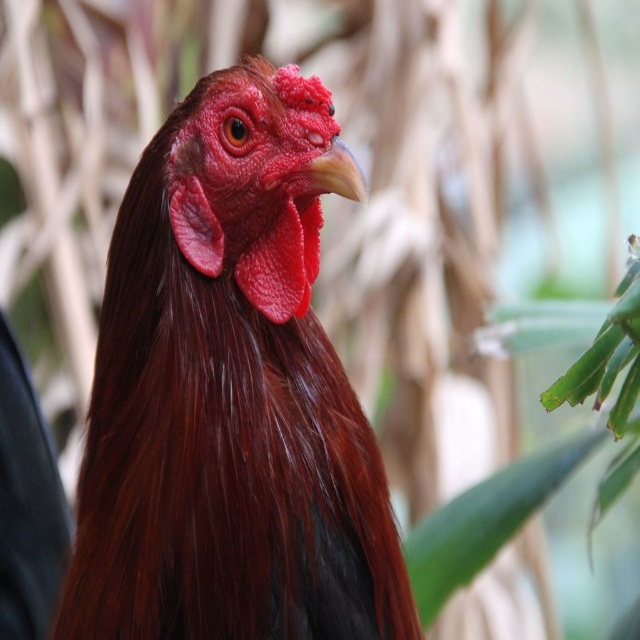Chicken: (45, 53, 426, 640)
